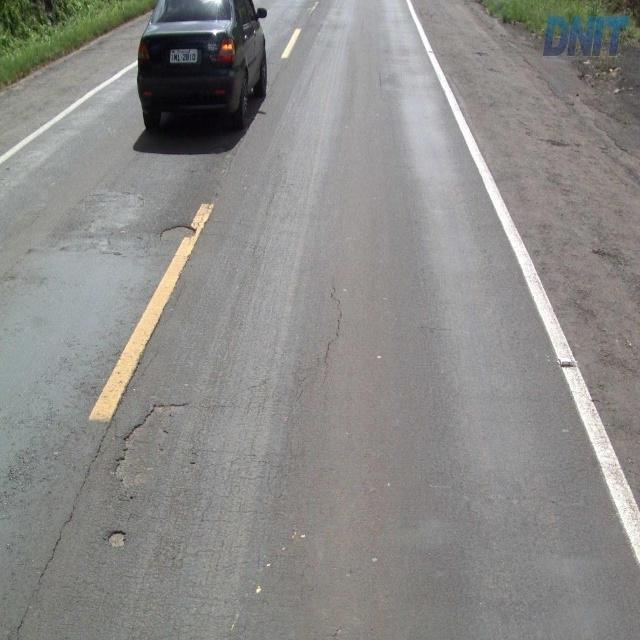pothole: (108, 397, 194, 497), (101, 519, 132, 553)
